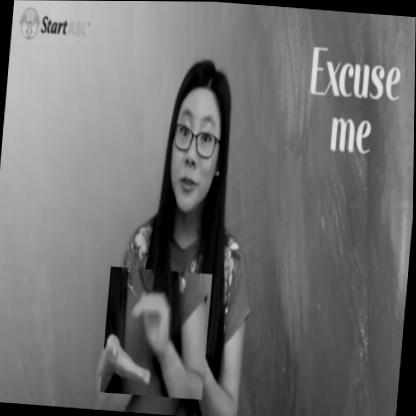ExcuseMe: (101, 266, 213, 400)
